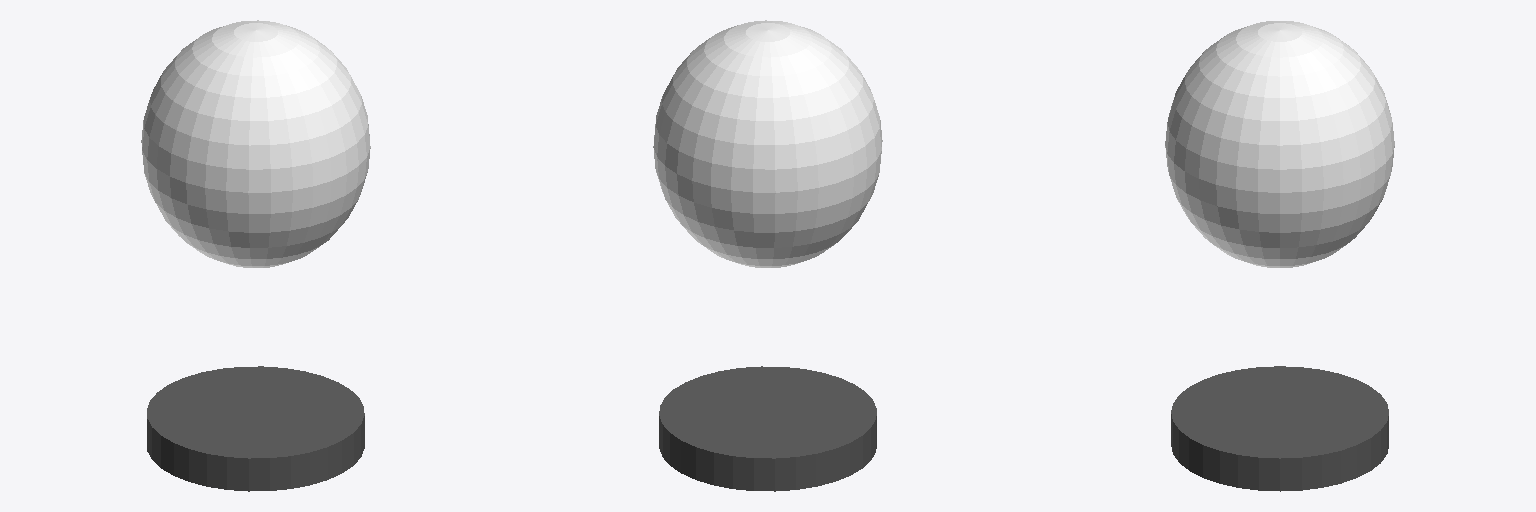
URDF robot description (lightbulb_1dof_smoothbulb):
<?xml version="1.0"?>
<robot name="lightbulb_1dof_smoothbulb">

  <!--
    Smooth-collision lightbulb probe.

    Visual and collision meshes intentionally match for the bulb body. This
    makes viewer contact inspection reliable: if a fingertip appears to touch
    the bulb, it is touching the same geometry used by PhysX.

    The glass-head mesh is a smooth ellipsoid matched to the previous
    contact0.stl bounding box. The socket remains contact1.stl, matching both
    visual and collision.

    Use via Hydra override:
      task.env.object.type=screw_smoothbulb
  -->

  <link name="base">
    <visual>
      <origin xyz="0 0 0" rpy="0 0 0"/>
      <geometry>
        <cylinder radius="0.03" length="0.01"/>
      </geometry>
      <material name="base_gray">
        <color rgba="0.40 0.40 0.40 1"/>
      </material>
    </visual>
    <collision>
      <origin xyz="0 0 0" rpy="0 0 0"/>
      <geometry>
        <cylinder radius="0.03" length="0.01"/>
      </geometry>
    </collision>
    <inertial>
      <origin xyz="0 0 0" rpy="0 0 0"/>
      <mass value="0.05"/>
      <inertia ixx="1e-5" ixy="0" ixz="0" iyy="1e-5" iyz="0" izz="1e-5"/>
    </inertial>
  </link>

  <link name="bolt">
    <inertial>
      <origin xyz="0 0 0" rpy="0 0 0"/>
      <mass value="0.01"/>
      <inertia ixx="1e-6" ixy="0" ixz="0" iyy="1e-6" iyz="0" izz="1e-6"/>
    </inertial>
  </link>

  <joint name="base_to_bolt" type="fixed">
    <parent link="base"/>
    <child link="bolt"/>
    <origin xyz="0 0 0.005" rpy="0 0 0"/>
  </joint>

  <link name="nut">
    <visual>
      <origin xyz="0 0 0.06" rpy="0 -1.57079632679 0"/>
      <geometry>
        <mesh filename="../../lightbulb/smooth_head_collision.stl"/>
      </geometry>
      <material name="glass_white">
        <color rgba="1 1 1 0.7"/>
      </material>
    </visual>
    <visual>
      <origin xyz="0 0 0.06" rpy="0 -1.57079632679 0"/>
      <geometry>
        <mesh filename="../../lightbulb/contact1.stl"/>
      </geometry>
      <material name="socket_gray">
        <color rgba="0.5 0.5 0.5 1"/>
      </material>
    </visual>

    <collision>
      <origin xyz="0 0 0.06" rpy="0 -1.57079632679 0"/>
      <geometry>
        <mesh filename="../../lightbulb/smooth_head_collision.stl"/>
      </geometry>
    </collision>
    <collision>
      <origin xyz="0 0 0.06" rpy="0 -1.57079632679 0"/>
      <geometry>
        <mesh filename="../../lightbulb/contact1.stl"/>
      </geometry>
    </collision>

    <inertial>
      <origin xyz="0 0 0.02" rpy="0 0 0"/>
      <mass value="0.05"/>
      <inertia ixx="1e-5" ixy="0" ixz="0" iyy="1e-5" iyz="0" izz="1e-5"/>
    </inertial>
  </link>

  <joint name="bolt_to_nut" type="revolute">
    <parent link="bolt"/>
    <child link="nut"/>
    <origin xyz="0 0 0" rpy="0 0 0"/>
    <axis xyz="0 0 -1"/>
    <dynamics friction="0.2"/>
    <limit lower="0.0" upper="628.3185" effort="2.0" velocity="6.2832"/>
  </joint>

</robot>

--- What the picture shows (computed from the rendered views, not written in the file) ---
The picture shows the robot from 3 angles, left to right: view 1: azimuth 30°, elevation 25°; view 2: azimuth 150°, elevation 25°; view 3: azimuth 270°, elevation 25°; orthographic projection.
Model lightbulb_1dof_smoothbulb with 3 links and 2 joints (1 revolute, 1 fixed), rooted at base, posed every joint at zero.
Links seen in each view (by area): view 1: nut, base; view 2: nut, base; view 3: nut, base.
Link boxes in pixels (x1,y1,x2,y2): nut: (141,20,370,267); base: (147,366,364,491); nut: (653,20,882,267); base: (659,366,876,491); nut: (1165,21,1394,267); base: (1171,366,1388,491).
Size in the robot's own frame: 0.0631 by 0.0631 by 0.1259 metres.
Meshes: 2 distinct files referenced, 1 mesh visuals loaded (1 binary STL); not drawn: 1 (reference not matched to a file when rendering).
